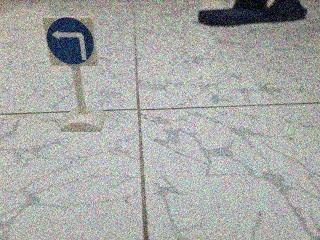left: (43, 13, 102, 68)
